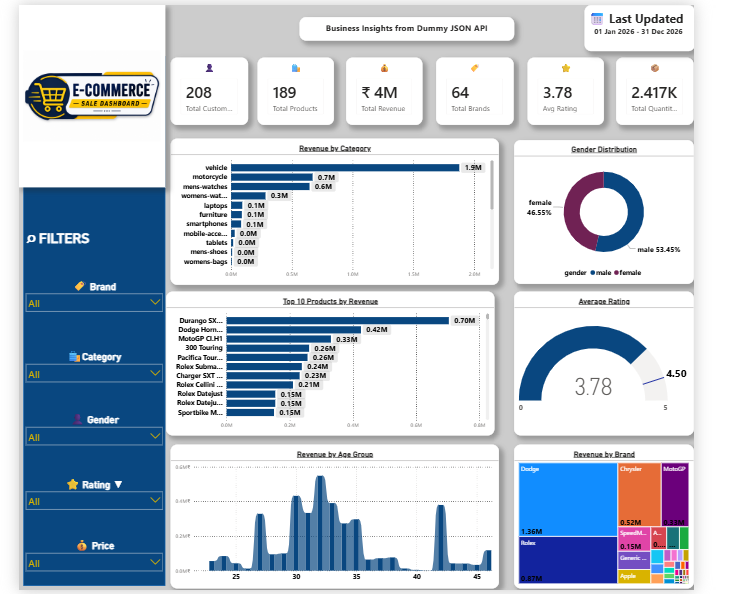

The page's visual inventory and layout, read from the dashboard file:
{"tool":"powerbi","page":{"name":"Page 1","canvas":[1500,1300],"ordinal":0},"visuals":[{"type":"textbox","box":[622.5,25,477.5,52.5],"z":0},{"type":"cardVisual","title":"💰","fields":{"Data":["Sum(Sheet1.product_total)"]},"box":[727.5,117.5,170,150],"z":1000},{"type":"cardVisual","title":" 👤 ","fields":{"Data":["Sheet1.Total Customers"]},"box":[335,117.5,172.5,150],"z":2000},{"type":"cardVisual","title":"📦","fields":{"Data":["Sheet1.Total Quantity Sold"]},"box":[1327.5,117.5,172.5,150],"z":3000},{"type":"cardVisual","title":"⭐","fields":{"Data":["Sheet1.Average Rating"]},"box":[1130,117.5,170,150],"z":4000},{"type":"cardVisual","title":"🏷️","fields":{"Data":["Sheet1.Total Brands"]},"box":[927.5,117.5,172.5,150],"z":5000},{"type":"cardVisual","title":"🛍️","fields":{"Data":["Sheet1.Total Products"]},"box":[530,117.5,170,150],"z":6000},{"type":"clusteredBarChart","title":"Revenue by Category  ","fields":{"Category":["Sheet1.category"],"Y":["Sum(Sheet1.product_total)"]},"box":[335,295,730,325],"z":7000},{"type":"donutChart","title":"Gender Distribution","fields":{"Category":["Sheet1.gender"],"Y":["Sum(Sheet1.user_id)"]},"box":[1100,300,400,320],"z":8000},{"type":"clusteredBarChart","title":"Top 10 Products by Revenue","fields":{"Y":["Sum(Sheet1.product_total)"],"Category":["Sheet1.product_name"]},"box":[325,635,730,320],"z":9000},{"type":"gauge","title":"Average Rating","fields":{"Y":["Sheet1.Avg Rating"],"MaxValue":["Sheet1.Max Rating"],"MinValue":["Sheet1.Minimum Rating"],"TargetValue":["Sheet1.Target Rating"]},"box":[1100,635,400,320],"z":10000},{"type":"shape","box":[0,102.5,335,1197.5],"z":11000},{"type":"slicer","title":"🏷️ Brand ","fields":{"Values":["Sheet1.category"]},"box":[0,597.5,335,105],"z":12000},{"type":"slicer","title":"🛍️Category","fields":{"Values":["Sheet1.brand"]},"box":[0,752.5,335,105],"z":13000},{"type":"slicer","title":"👤 Gender","fields":{"Values":["Sheet1.gender"]},"box":[0,892.5,335,105],"z":14000},{"type":"slicer","title":"⭐ Rating ▼ ","fields":{"Values":["Sheet1.rating"]},"box":[0,1037.5,335,102.5],"z":15000},{"type":"slicer","title":"💰 Price","fields":{"Values":["Sheet1.product_price"]},"box":[0,1172.5,335,105],"z":16000},{"type":"image","box":[0,0,325,405],"z":17000},{"type":"textbox","title":"⌕ FILTERS","box":[0,490,172.5,50],"z":18000},{"type":"textbox","box":[1255,0,245,102.5],"z":19000},{"type":"treemap","title":"Revenue by Brand","fields":{"Group":["Sheet1.brand"],"Values":["Sum(Sheet1.product_total)"]},"box":[1100,975,400,320],"z":20000},{"type":"ribbonChart","title":"Revenue by Age Group","fields":{"Category":["Sheet1.age"],"Y":["Sheet1.Total Revenue"]},"box":[335,975,730,320],"z":21000}]}

Visuals, with their boxes in screenshot pixels (x1, y1, x2, y2):
textbox: select_region(296, 13, 511, 37)
"💰" cardVisual: select_region(343, 55, 420, 122)
" 👤 " cardVisual: select_region(166, 55, 244, 122)
"📦" cardVisual: select_region(614, 55, 691, 122)
"⭐" cardVisual: select_region(525, 55, 601, 122)
"🏷️" cardVisual: select_region(433, 55, 511, 122)
"🛍️" cardVisual: select_region(254, 55, 331, 122)
"Revenue by Category  " clusteredBarChart: select_region(166, 135, 495, 281)
"Gender Distribution" donutChart: select_region(511, 137, 691, 281)
"Top 10 Products by Revenue" clusteredBarChart: select_region(162, 288, 491, 432)
"Average Rating" gauge: select_region(511, 288, 691, 432)
shape: select_region(15, 48, 166, 588)
"🏷️ Brand " slicer: select_region(15, 271, 166, 319)
"🛍️Category" slicer: select_region(15, 341, 166, 388)
"👤 Gender" slicer: select_region(15, 404, 166, 452)
"⭐ Rating ▼ " slicer: select_region(15, 470, 166, 516)
"💰 Price" slicer: select_region(15, 530, 166, 578)
image: select_region(15, 2, 162, 184)
"⌕ FILTERS" textbox: select_region(15, 223, 93, 245)
textbox: select_region(581, 2, 691, 48)
"Revenue by Brand" treemap: select_region(511, 441, 691, 586)
"Revenue by Age Group" ribbonChart: select_region(166, 441, 495, 586)
